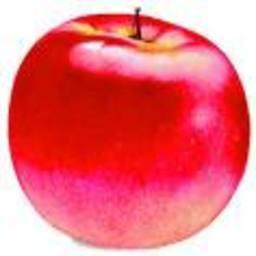apple: (7, 13, 250, 251)
